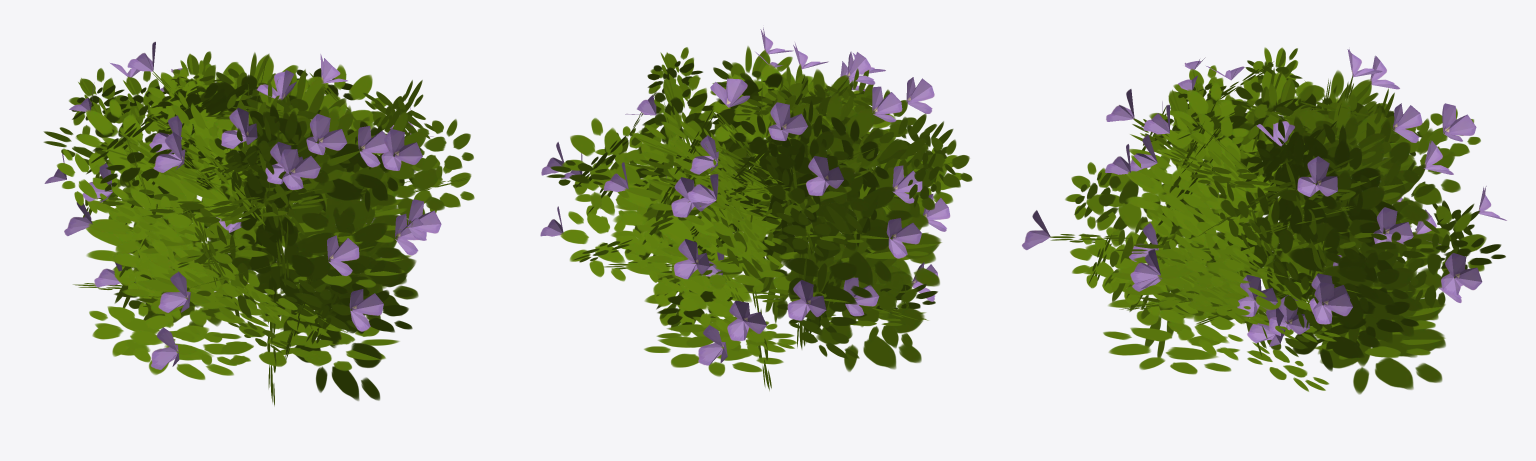
File: bushFlowers.glb
The picture shows the model from 3 angles, left to right: view 1: azimuth 30°, elevation 25°; view 2: azimuth 150°, elevation 25°; view 3: azimuth 270°, elevation 25°; orthographic projection. The views are drawn at different scales.
Visible parts, largest first — view 1: Bush_Common_Flowers; view 2: Bush_Common_Flowers; view 3: Bush_Common_Flowers.
Boxes of the visible parts, x1=… form: Bush_Common_Flowers: x1=43, y1=41, x2=474, y2=406; Bush_Common_Flowers: x1=540, y1=27, x2=972, y2=390; Bush_Common_Flowers: x1=1022, y1=47, x2=1506, y2=394.
Size of the model in its own units: 1.91 by 1.58 by 1.97.
Materials: 2 (2 with a texture image).
